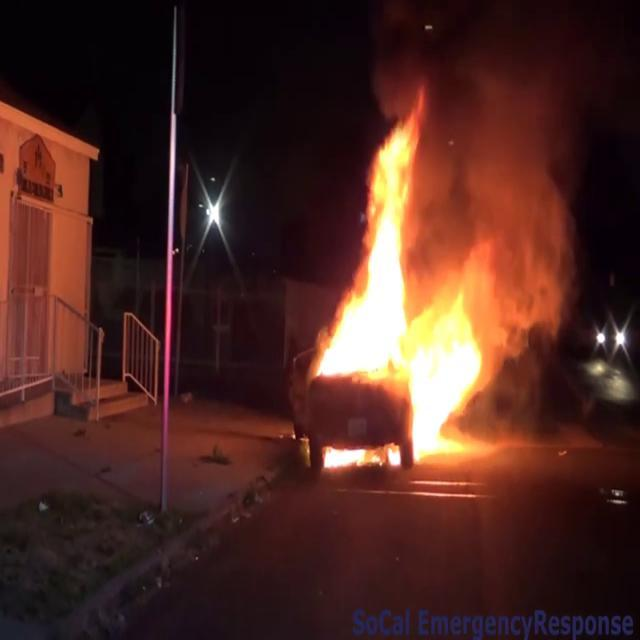Fire: (306, 78, 496, 464)
Smoke: (412, 2, 624, 324)
